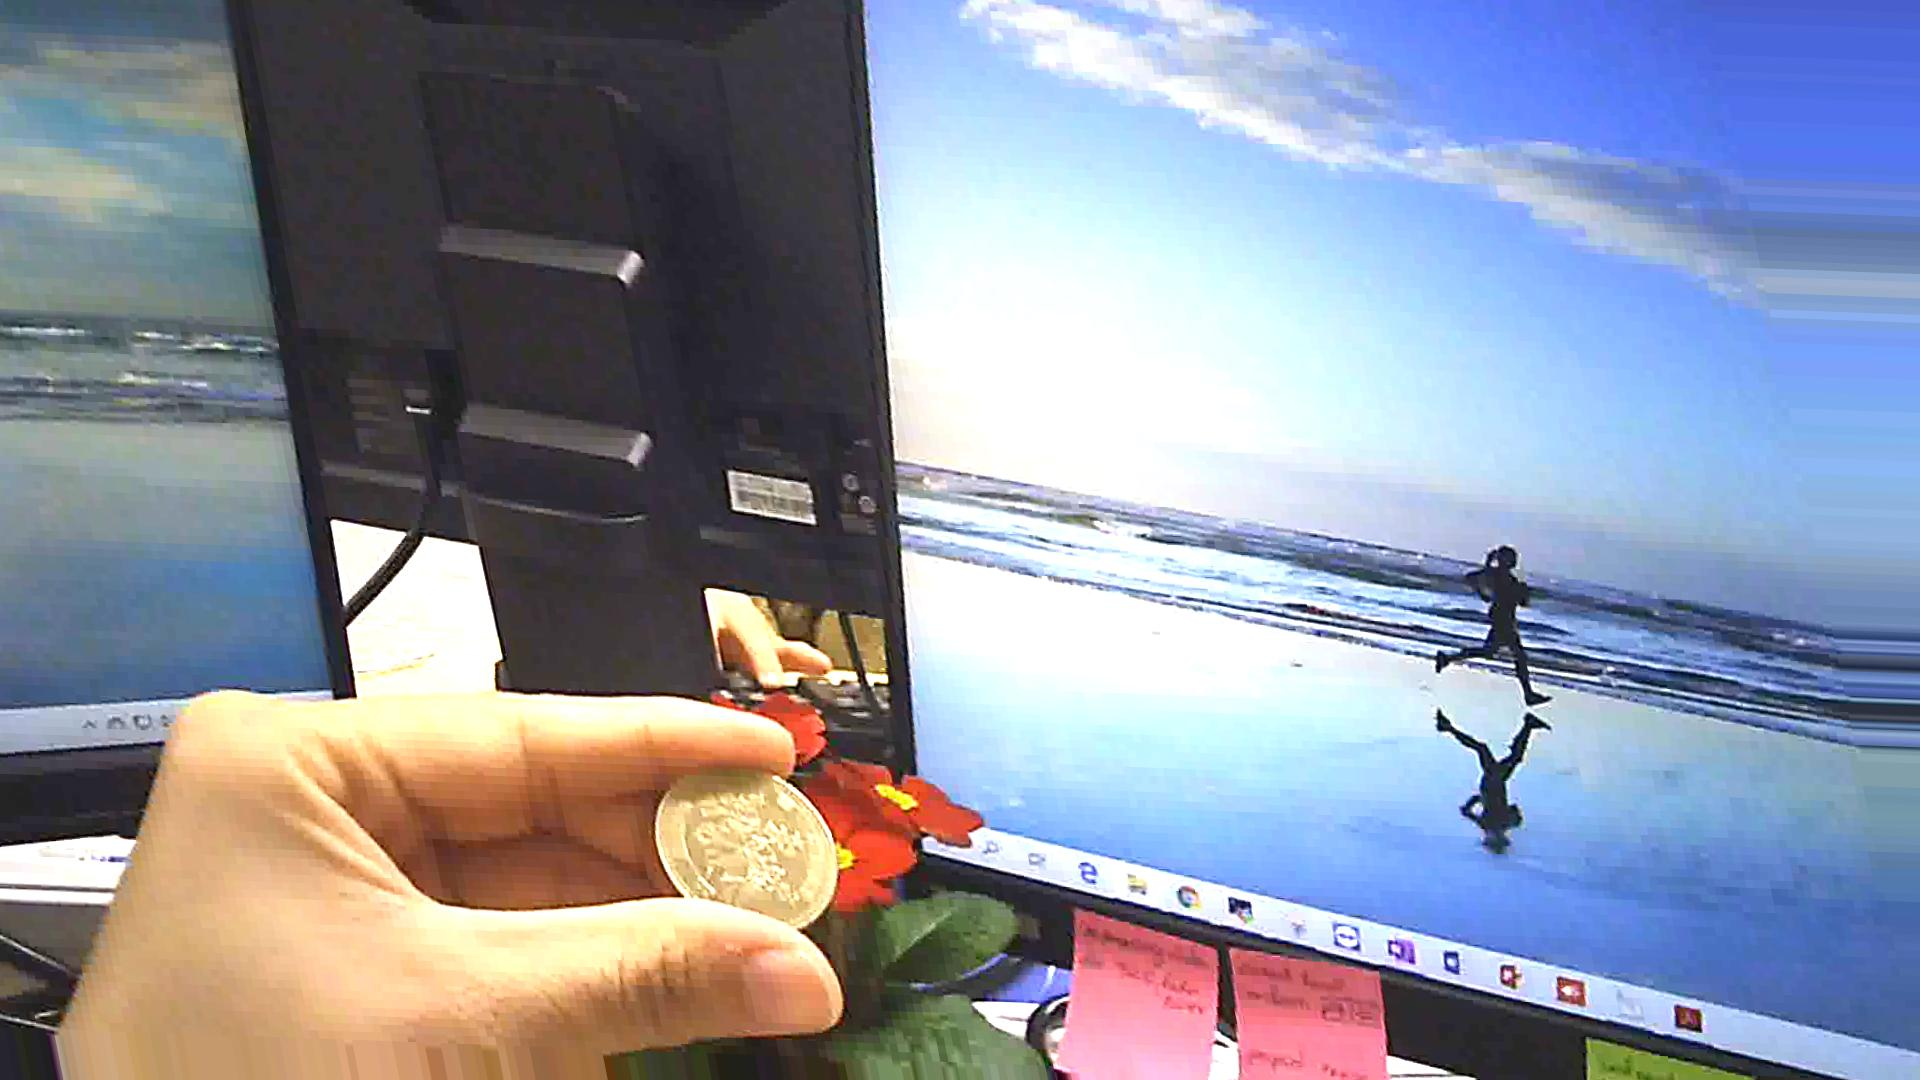500 Yen: (655, 753, 829, 949)
